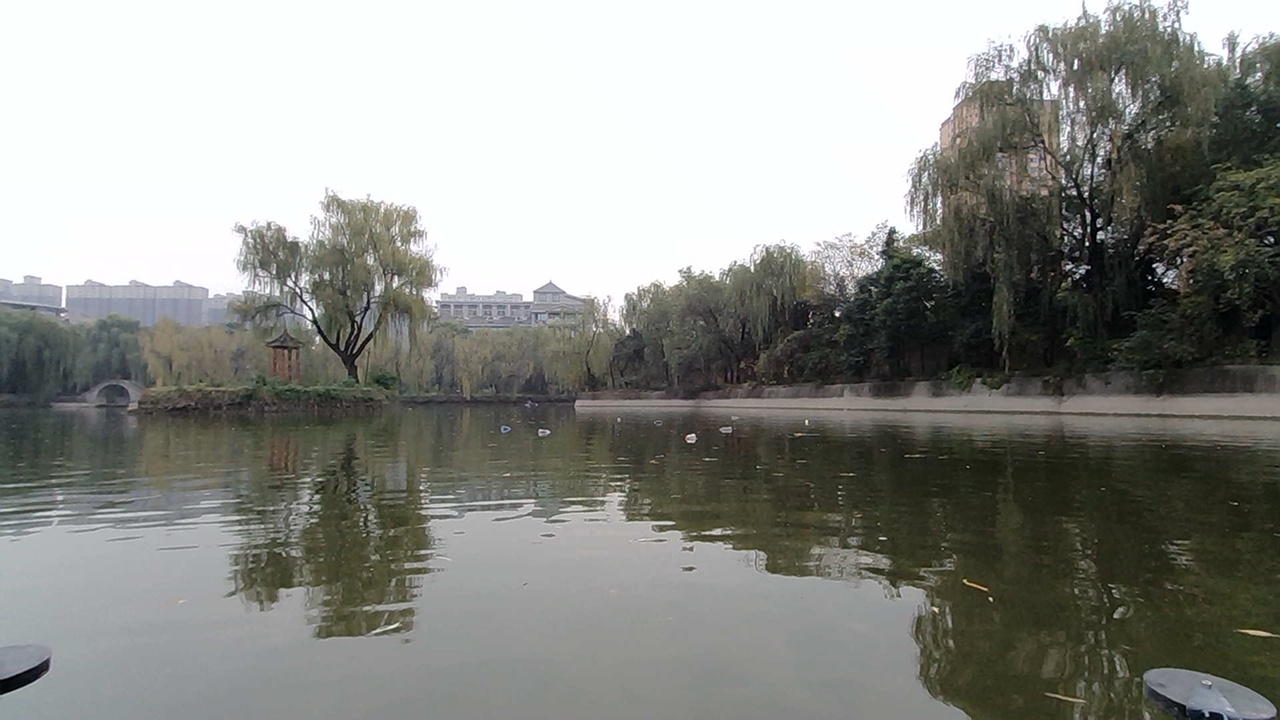bottle: (494, 410, 523, 441), (793, 409, 823, 437), (535, 416, 562, 443), (644, 409, 674, 433), (714, 416, 740, 434), (600, 406, 622, 425), (681, 428, 704, 446)
